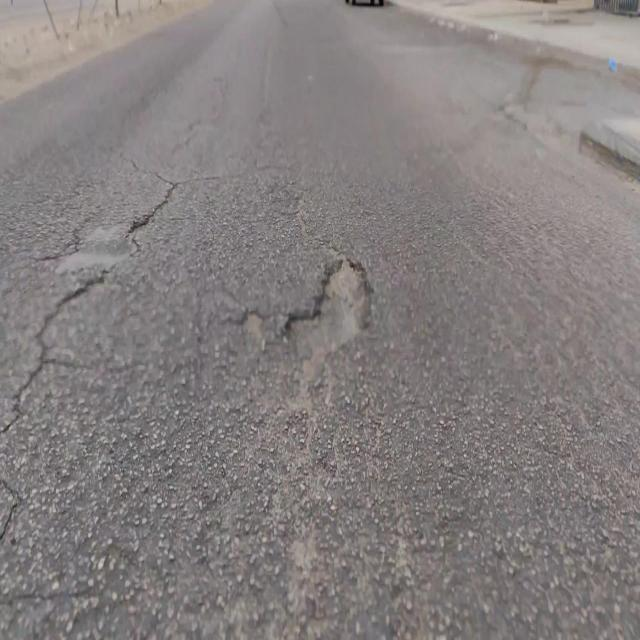Pothole: (283, 254, 372, 360)
